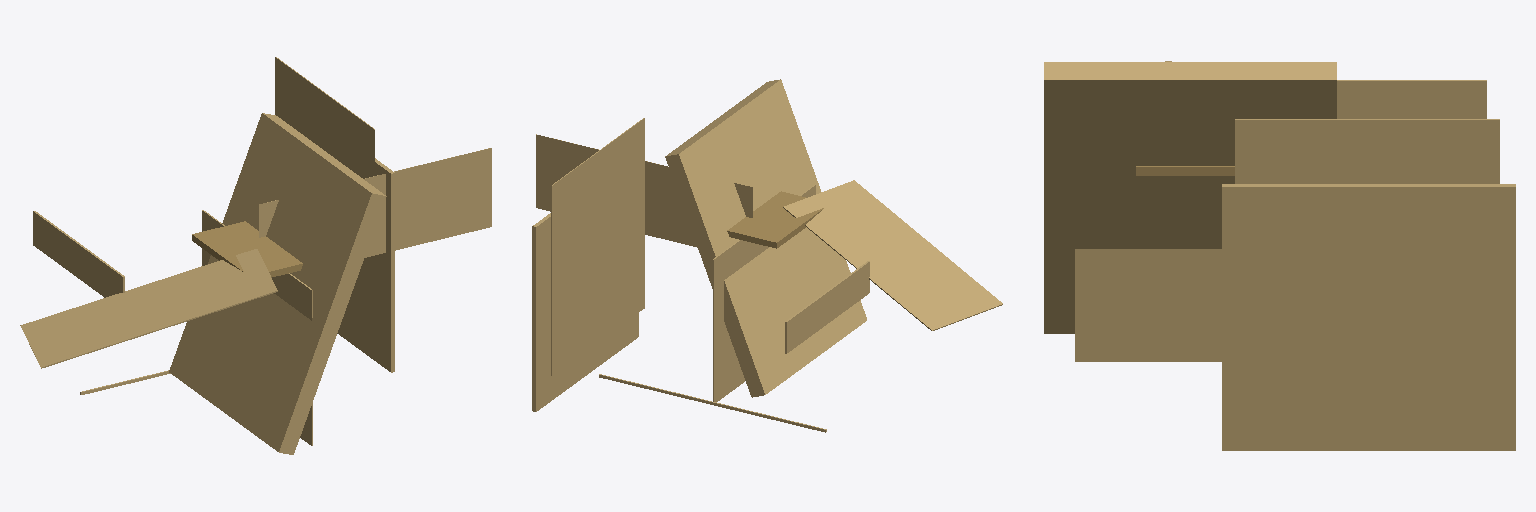
URDF robot description (evolved_design):
<?xml version="1.0" ?>
<robot name="evolved_design">
  <link name="base_link">
    <inertial>
      <mass value="0.001"/>
      <origin xyz="0 0 0" rpy="0 0 0"/>
      <inertia ixx="0.000001" ixy="0" ixz="0" iyy="0.000001" iyz="0" izz="0.000001"/>
    </inertial>
  </link>
  <link name="link_comp_0">
    <inertial>
      <mass value="0.838824"/>
      <origin xyz="0 0 0" rpy="0 0 0"/>
      <inertia ixx="0.039485466" ixy="0" ixz="0" iyy="0.015063259" iyz="0" izz="0.024425033"/>
    </inertial>
    <visual>
      <origin xyz="0 0 0" rpy="0 0 0"/>
      <geometry>
        <box size="0.004496 0.591099 0.464189"/>
      </geometry>
      <material name="link_comp_0_material">
        <color rgba="0.8 0.7 0.5 1"/>
      </material>
    </visual>
    <collision>
      <origin xyz="0 0 0" rpy="0 0 0"/>
      <geometry>
        <box size="0.004496 0.591099 0.464189"/>
      </geometry>
    </collision>
  </link>
  <joint name="base_link_to_link_comp_0" type="fixed">
    <parent link="base_link"/>
    <child link="link_comp_0"/>
    <origin xyz="0.002248 0.295550 0.232094" rpy="0.000000 0.000000 0.000000"/>
  </joint>
  <link name="link_comp_1">
    <inertial>
      <mass value="0.022130"/>
      <origin xyz="0 0 0" rpy="0 0 0"/>
      <inertia ixx="0.000000191" ixy="0" ixz="0" iyy="0.001070941" iyz="0" izz="0.001070833"/>
    </inertial>
    <visual>
      <origin xyz="0 0 0" rpy="0 0 0"/>
      <geometry>
        <box size="0.762000 0.004750 0.008992"/>
      </geometry>
      <material name="link_comp_1_material">
        <color rgba="0.8 0.7 0.5 1"/>
      </material>
    </visual>
    <collision>
      <origin xyz="0 0 0" rpy="0 0 0"/>
      <geometry>
        <box size="0.762000 0.004750 0.008992"/>
      </geometry>
    </collision>
  </link>
  <joint name="base_link_to_link_comp_1" type="fixed">
    <parent link="base_link"/>
    <child link="link_comp_1"/>
    <origin xyz="0.002716 0.593974 0.004496" rpy="0.000000 0.000000 0.000000"/>
  </joint>
  <link name="link_comp_2">
    <inertial>
      <mass value="0.212601"/>
      <origin xyz="0 0 0" rpy="0 0 0"/>
      <inertia ixx="0.004343697" ixy="0" ixz="0" iyy="0.000183588" iyz="0" izz="0.004161537"/>
    </inertial>
    <visual>
      <origin xyz="0 0 0" rpy="0 0 0"/>
      <geometry>
        <box size="0.006350 0.484616 0.101598"/>
      </geometry>
      <material name="link_comp_2_material">
        <color rgba="0.8 0.7 0.5 1"/>
      </material>
    </visual>
    <collision>
      <origin xyz="0 0 0" rpy="0 0 0"/>
      <geometry>
        <box size="0.006350 0.484616 0.101598"/>
      </geometry>
    </collision>
  </link>
  <joint name="base_link_to_link_comp_2" type="fixed">
    <parent link="base_link"/>
    <child link="link_comp_2"/>
    <origin xyz="-0.381959 0.594301 0.401203" rpy="0.000000 0.000000 0.000000"/>
  </joint>
  <link name="link_comp_3">
    <inertial>
      <mass value="0.667781"/>
      <origin xyz="0 0 0" rpy="0 0 0"/>
      <inertia ixx="0.036755775" ixy="0" ixz="0" iyy="0.020680131" iyz="0" izz="0.016076644"/>
    </inertial>
    <visual>
      <origin xyz="0 0 0" rpy="0 0 0"/>
      <geometry>
        <box size="0.002997 0.537483 0.609600"/>
      </geometry>
      <material name="link_comp_3_material">
        <color rgba="0.8 0.7 0.5 1"/>
      </material>
    </visual>
    <collision>
      <origin xyz="0 0 0" rpy="0 0 0"/>
      <geometry>
        <box size="0.002997 0.537483 0.609600"/>
      </geometry>
    </collision>
  </link>
  <joint name="base_link_to_link_comp_3" type="fixed">
    <parent link="base_link"/>
    <child link="link_comp_3"/>
    <origin xyz="0.385714 0.594703 0.416882" rpy="0.000000 0.000000 0.000000"/>
  </joint>
  <link name="link_comp_4">
    <inertial>
      <mass value="0.434203"/>
      <origin xyz="0 0 0" rpy="0 0 0"/>
      <inertia ixx="0.002761186" ixy="0" ixz="0" iyy="0.016445115" iyz="0" izz="0.019205450"/>
    </inertial>
    <visual>
      <origin xyz="0 0 0" rpy="0 0 0"/>
      <geometry>
        <box size="0.674151 0.276222 0.003429"/>
      </geometry>
      <material name="link_comp_4_material">
        <color rgba="0.8 0.7 0.5 1"/>
      </material>
    </visual>
    <collision>
      <origin xyz="0 0 0" rpy="0 0 0"/>
      <geometry>
        <box size="0.674151 0.276222 0.003429"/>
      </geometry>
    </collision>
  </link>
  <joint name="base_link_to_link_comp_4" type="fixed">
    <parent link="base_link"/>
    <child link="link_comp_4"/>
    <origin xyz="-0.382815 0.213382 0.413080" rpy="0.000000 -0.253033 -0.321895"/>
  </joint>
  <link name="link_comp_5">
    <inertial>
      <mass value="0.116365"/>
      <origin xyz="0 0 0" rpy="0 0 0"/>
      <inertia ixx="0.000540517" ixy="0" ixz="0" iyy="0.005635044" iyz="0" izz="0.005094546"/>
    </inertial>
    <visual>
      <origin xyz="0 0 0" rpy="0 0 0"/>
      <geometry>
        <box size="0.724823 0.001000 0.236092"/>
      </geometry>
      <material name="link_comp_5_material">
        <color rgba="0.8 0.7 0.5 1"/>
      </material>
    </visual>
    <collision>
      <origin xyz="0 0 0" rpy="0 0 0"/>
      <geometry>
        <box size="0.724823 0.001000 0.236092"/>
      </geometry>
    </collision>
  </link>
  <joint name="base_link_to_link_comp_5" type="fixed">
    <parent link="base_link"/>
    <child link="link_comp_5"/>
    <origin xyz="0.385658 0.325080 0.465255" rpy="0.000000 0.000000 0.000000"/>
  </joint>
  <link name="link_comp_6">
    <inertial>
      <mass value="3.057755"/>
      <origin xyz="0 0 0" rpy="0 0 0"/>
      <inertia ixx="0.180447841" ixy="0" ixz="0" iyy="0.089643326" iyz="0" izz="0.090886713"/>
    </inertial>
    <visual>
      <origin xyz="0 0 0" rpy="0 0 0"/>
      <geometry>
        <box size="0.012700 0.597092 0.592992"/>
      </geometry>
      <material name="link_comp_6_material">
        <color rgba="0.8 0.7 0.5 1"/>
      </material>
    </visual>
    <collision>
      <origin xyz="0 0 0" rpy="0 0 0"/>
      <geometry>
        <box size="0.012700 0.597092 0.592992"/>
      </geometry>
    </collision>
  </link>
  <joint name="base_link_to_link_comp_6" type="fixed">
    <parent link="base_link"/>
    <child link="link_comp_6"/>
    <origin xyz="0.426474 0.596292 0.296496" rpy="0.000000 0.000000 0.000000"/>
  </joint>
  <link name="link_comp_7">
    <inertial>
      <mass value="15.383863"/>
      <origin xyz="0 0 0" rpy="0 0 0"/>
      <inertia ixx="1.196388103" ixy="0" ixz="0" iyy="0.747583955" iyz="0" izz="0.455214091"/>
    </inertial>
    <visual>
      <origin xyz="0 0 0" rpy="0 0 0"/>
      <geometry>
        <box size="0.050000 0.593788 0.762000"/>
      </geometry>
      <material name="link_comp_7_material">
        <color rgba="0.8 0.7 0.5 1"/>
      </material>
    </visual>
    <collision>
      <origin xyz="0 0 0" rpy="0 0 0"/>
      <geometry>
        <box size="0.050000 0.593788 0.762000"/>
      </geometry>
    </collision>
  </link>
  <joint name="base_link_to_link_comp_7" type="fixed">
    <parent link="base_link"/>
    <child link="link_comp_7"/>
    <origin xyz="0.029996 0.234825 0.381000" rpy="0.000000 0.390684 0.000000"/>
  </joint>
  <link name="link_comp_8">
    <inertial>
      <mass value="0.912114"/>
      <origin xyz="0 0 0" rpy="0 0 0"/>
      <inertia ixx="0.007450325" ixy="0" ixz="0" iyy="0.003886466" iyz="0" izz="0.011281624"/>
    </inertial>
    <visual>
      <origin xyz="0 0 0" rpy="0 0 0"/>
      <geometry>
        <box size="0.225319 0.312499 0.019050"/>
      </geometry>
      <material name="link_comp_8_material">
        <color rgba="0.7 0.6 0.4 1"/>
      </material>
    </visual>
    <collision>
      <origin xyz="0 0 0" rpy="0 0 0"/>
      <geometry>
        <box size="0.225319 0.312499 0.019050"/>
      </geometry>
    </collision>
  </link>
  <joint name="base_link_to_link_comp_8" type="fixed">
    <parent link="base_link"/>
    <child link="link_comp_8"/>
    <origin xyz="-0.009107 0.279801 0.474214" rpy="0.000000 0.000000 0.000000"/>
  </joint>
</robot>

--- Facts derived from the render (not from the file) ---
Views: 3 orthographic renders of the robot side by side, from view 1: azimuth 30°, elevation 25°; view 2: azimuth 150°, elevation 25°; view 3: azimuth 270°, elevation 25°.
Model evolved_design with 10 links and 9 joints (9 fixed), rooted at base_link, posed every joint at zero.
Links seen in each view (by area): view 1: link_comp_7, link_comp_4, link_comp_5, link_comp_3, link_comp_6, link_comp_2, link_comp_8, link_comp_0; view 2: link_comp_7, link_comp_3, link_comp_4, link_comp_6, link_comp_5, link_comp_0, link_comp_2, link_comp_8, link_comp_1; view 3: link_comp_6, link_comp_7, link_comp_3, link_comp_0, link_comp_2, link_comp_8.
Link boxes in pixels (box(x1,y1,x2,y2)): link_comp_7: box(169, 113, 386, 454); link_comp_4: box(20, 249, 277, 368); link_comp_5: box(259, 148, 491, 257); link_comp_3: box(275, 57, 374, 333); link_comp_6: box(337, 158, 394, 372); link_comp_2: box(33, 211, 124, 297); link_comp_8: box(192, 221, 302, 277); link_comp_0: box(202, 210, 312, 445); link_comp_7: box(665, 79, 866, 397); link_comp_3: box(551, 118, 644, 375); link_comp_4: box(783, 180, 1002, 330); link_comp_6: box(532, 213, 638, 411); link_comp_5: box(536, 134, 752, 247); link_comp_0: box(713, 185, 815, 401); link_comp_2: box(785, 261, 869, 353); link_comp_8: box(727, 191, 823, 248); link_comp_1: box(599, 374, 826, 432); link_comp_6: box(1222, 184, 1515, 450); link_comp_7: box(1044, 62, 1336, 333); link_comp_3: box(1235, 119, 1499, 183); link_comp_0: box(1075, 249, 1221, 361); link_comp_2: box(1337, 80, 1486, 118); link_comp_8: box(1136, 166, 1234, 175).
Bounding box of the posed robot: 1.48 × 0.9569 × 0.7428 m (x, y, z).
Geometry: primitives only (box / cylinder / sphere), no mesh files.